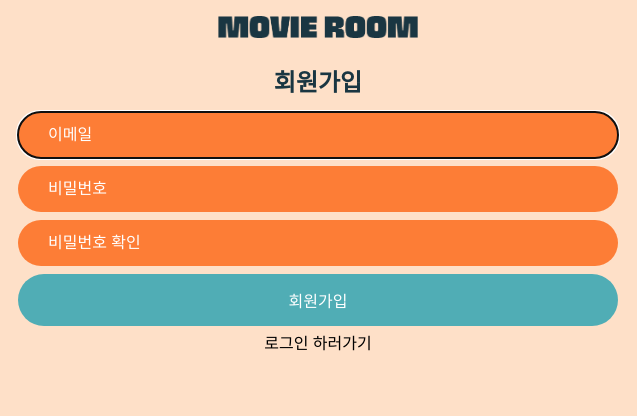
signup page › should render 'invalidConfirmPw' error message
In the password field with placeholder "비밀번호": (318, 189) [18,166,618,212], type "1"
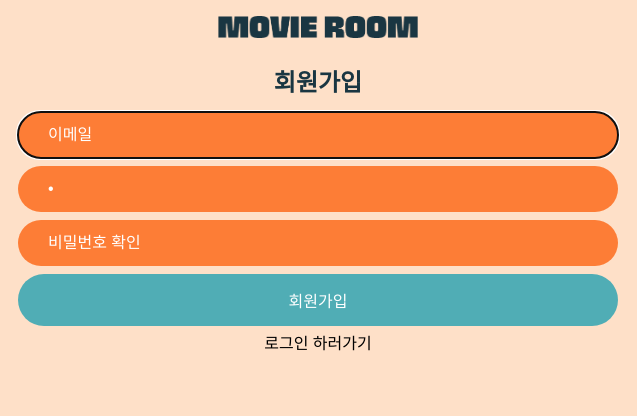
In the password field with placeholder "비밀번호 확인": (318, 243) [18,220,618,266], type "2"
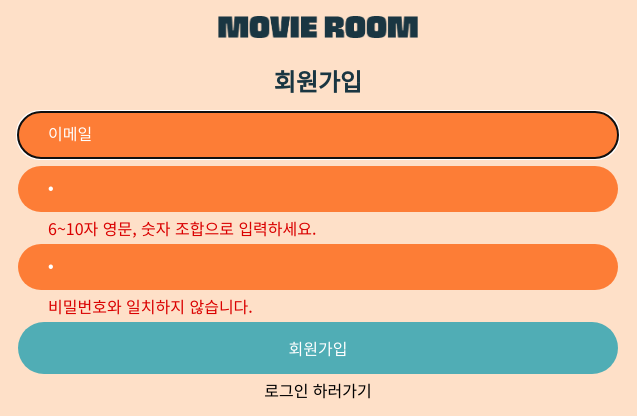
Expected: the text "비밀번호와 일치하지 않습니다." is shown, [48,294,253,318]
